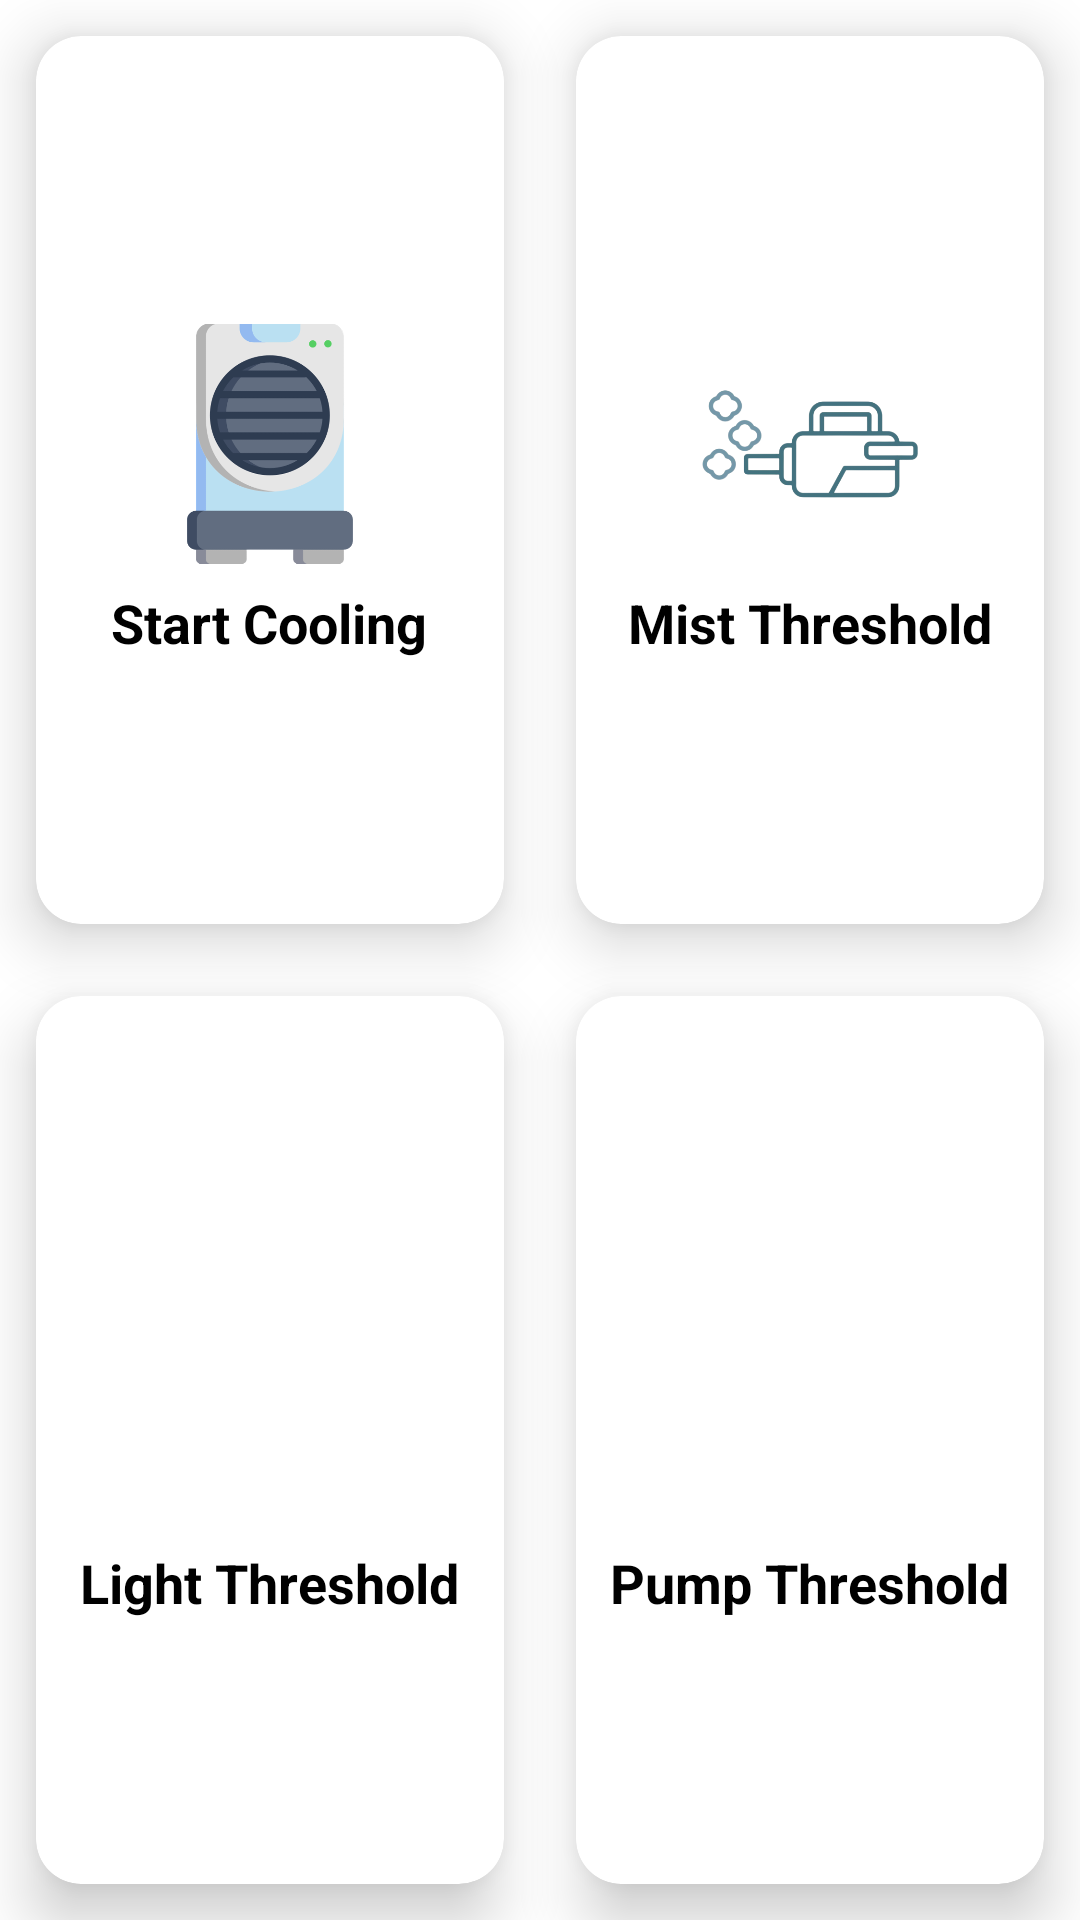

Named icons in this screenshot (1080 x 1920) and their centers, (x=x, y=y):
air fan: (x=270, y=444)
